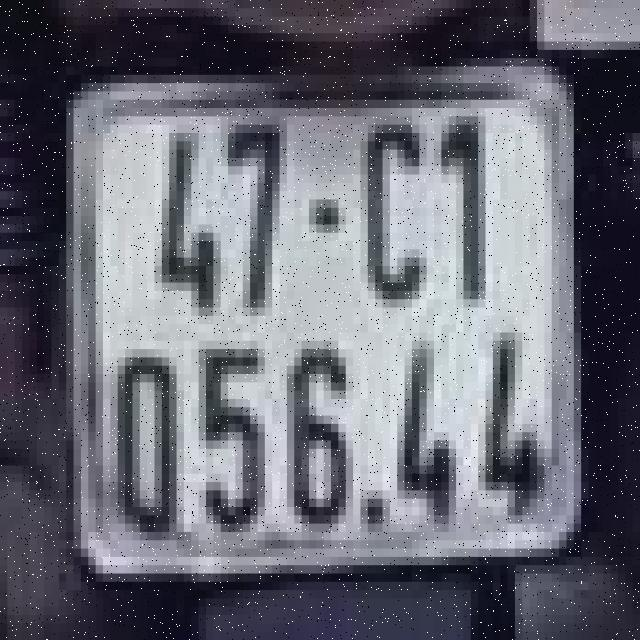0: (92, 332, 180, 557)
1: (434, 100, 500, 316)
4: (140, 104, 220, 337), (390, 328, 471, 536), (490, 316, 556, 524)
5: (195, 320, 268, 536)
6: (276, 324, 349, 540)
7: (217, 100, 298, 341)
C: (346, 96, 434, 320)
